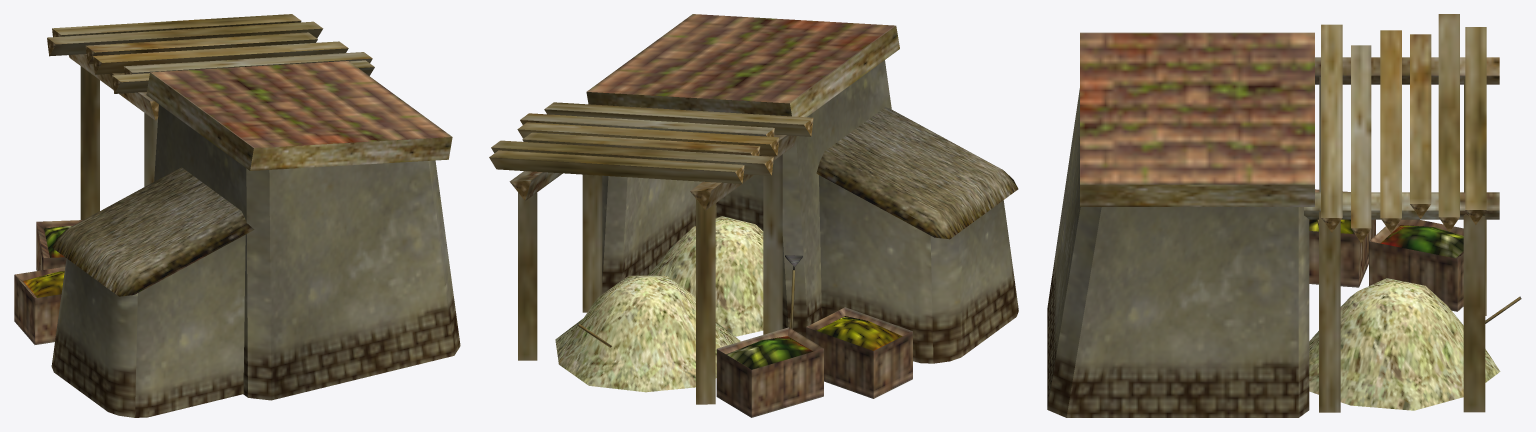
File: iber_farmstead.glb
3 renders of one model, left to right at view 1: azimuth 30°, elevation 25°; view 2: azimuth 150°, elevation 25°; view 3: azimuth 270°, elevation 25°, orthographic. The views are drawn at different scales.
Visible parts, largest first — view 1: iber_farmstead_part0; view 2: iber_farmstead_part0, iber_farmstead_part1; view 3: iber_farmstead_part0, iber_farmstead_part1.
Part boxes in pixels (box(x1,y1,x2,y2)): iber_farmstead_part0: box(14, 14, 460, 417); iber_farmstead_part0: box(489, 14, 1018, 417); iber_farmstead_part1: box(555, 216, 763, 392); iber_farmstead_part0: box(1047, 14, 1521, 417); iber_farmstead_part1: box(1309, 278, 1500, 410).
Bounding box in the file's own units: 3.2 × 2.01 × 3.13.
2 materials, 2 textured.
